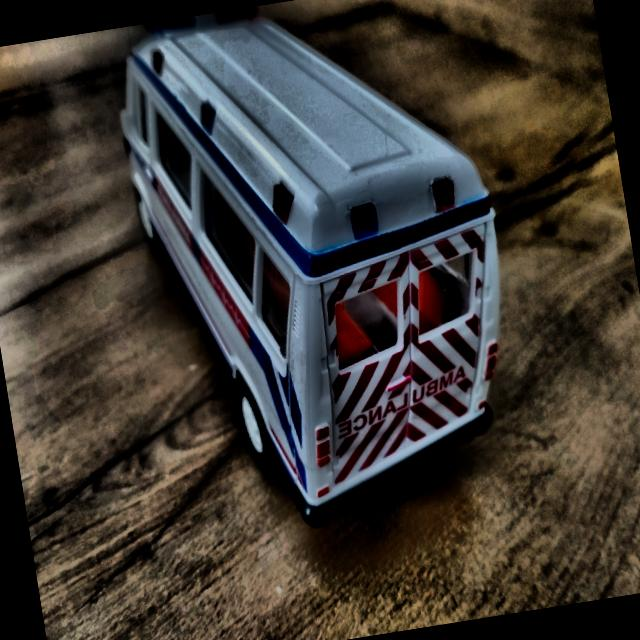Ambulance: (98, 0, 542, 555)
